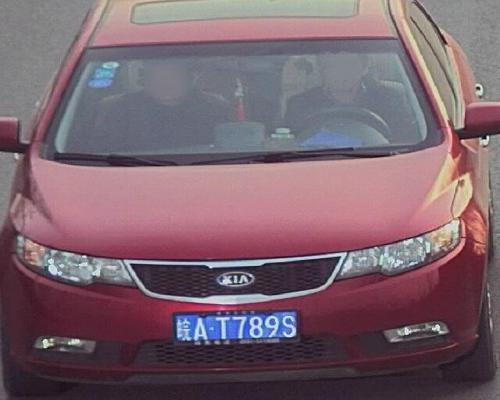Carplate: (167, 305, 306, 347)
